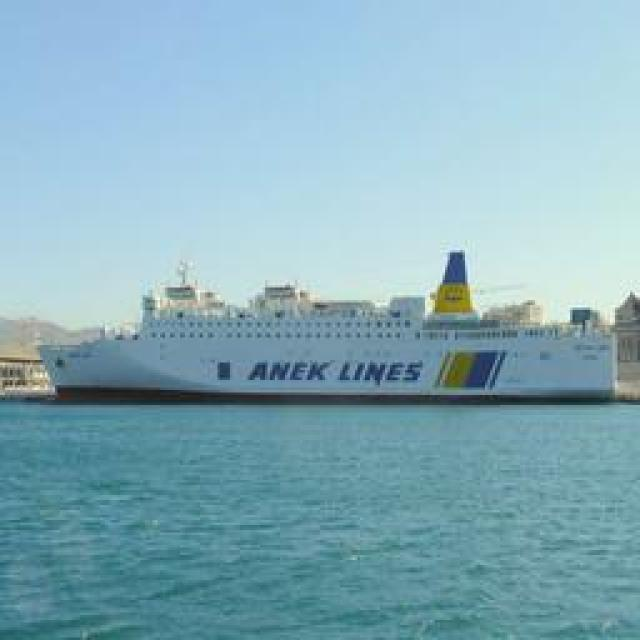ship2: (38, 252, 622, 406)
